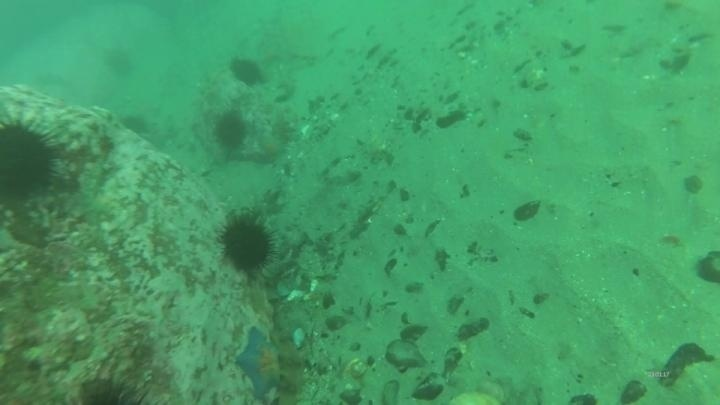echinus: (0, 113, 62, 202), (216, 211, 278, 276), (69, 368, 155, 405), (211, 109, 250, 152), (228, 55, 266, 88), (102, 45, 137, 80), (119, 112, 153, 140)
holothurian: (274, 336, 312, 403)
starfish: (232, 326, 287, 401), (254, 129, 289, 162)
